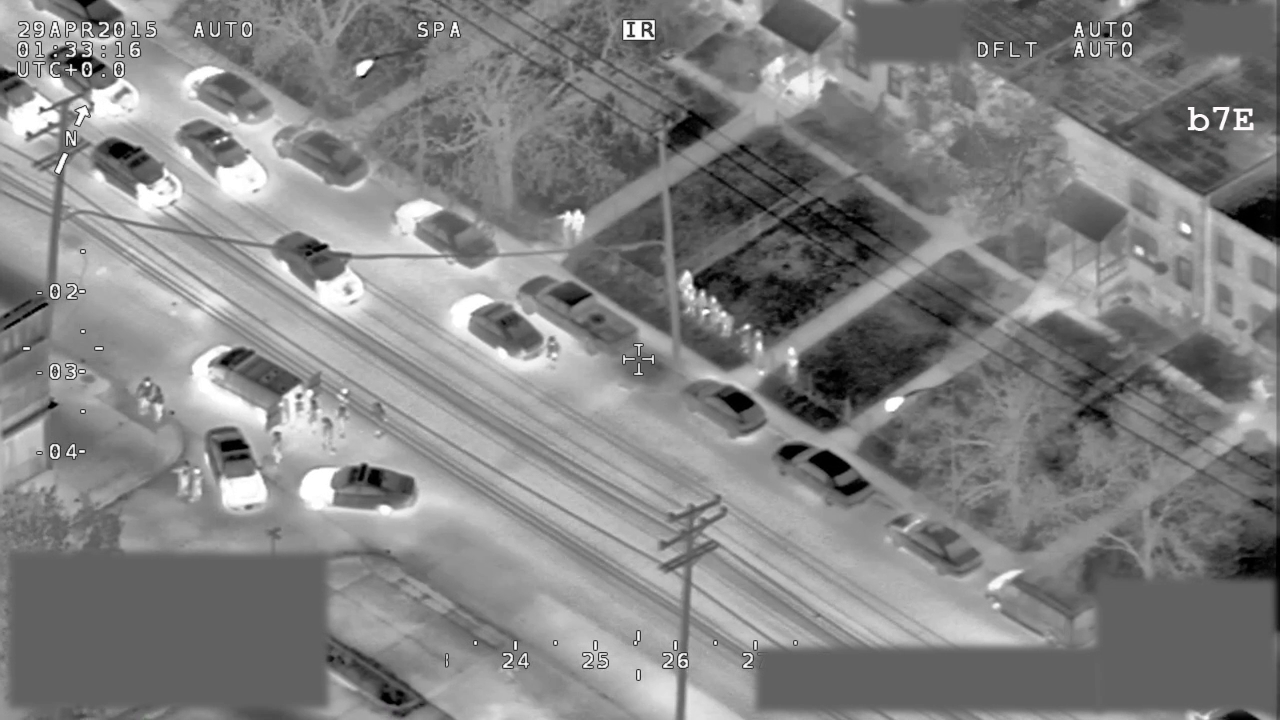vehicle: (188, 341, 327, 442), (515, 271, 644, 359), (979, 562, 1096, 644), (771, 439, 877, 519), (879, 507, 989, 582), (270, 225, 368, 309), (394, 194, 503, 269), (449, 288, 549, 366), (175, 118, 269, 200), (90, 136, 185, 214), (47, 38, 138, 119), (296, 459, 425, 514), (269, 121, 370, 190), (200, 424, 275, 516), (678, 374, 773, 443), (182, 60, 277, 127), (1, 62, 60, 148), (30, 1, 129, 39)
